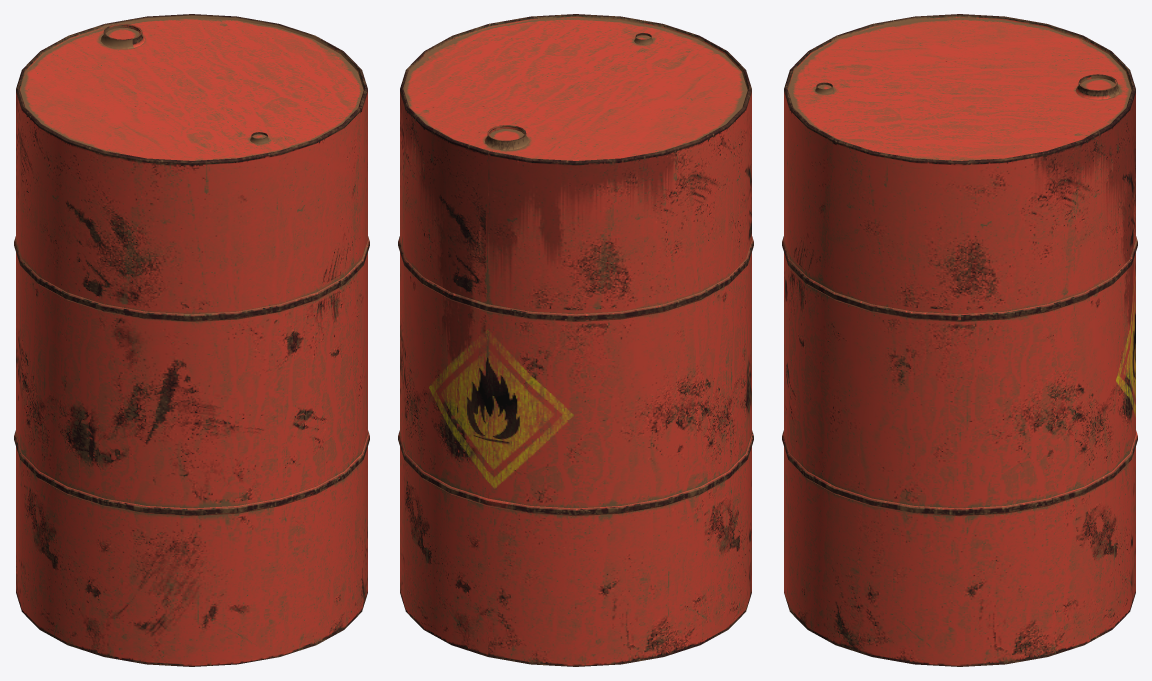
The model's file is ExplosiveBarrel.fbx.
The picture shows the model from 3 angles, left to right: view 1: azimuth 30°, elevation 25°; view 2: azimuth 150°, elevation 25°; view 3: azimuth 270°, elevation 25°; orthographic projection.
Visible parts, largest first — view 1: Barrel; view 2: Barrel; view 3: Barrel.
Part boxes in pixels (x1,y1,x2,y2): Barrel: [14, 14, 369, 666]; Barrel: [398, 14, 753, 666]; Barrel: [782, 14, 1137, 666].
Bounding box in the file's own units: 63.55 × 101 × 63.55.
Materials: 1 (1 with a texture image).
